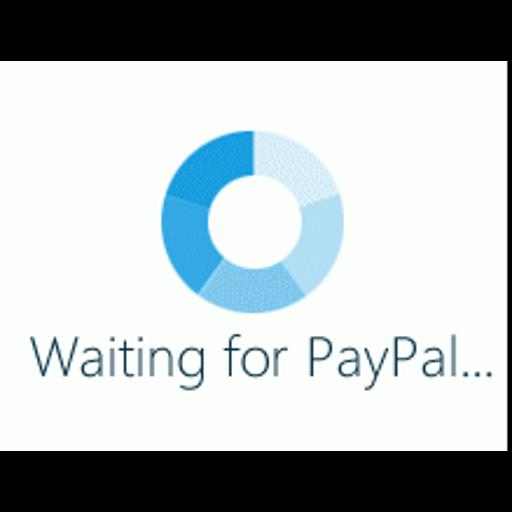PayPal: (0, 61, 512, 451)
